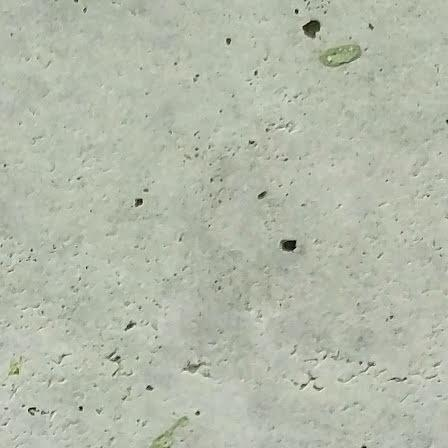hole: (280, 239, 298, 253)
spalling: (295, 11, 327, 43)
